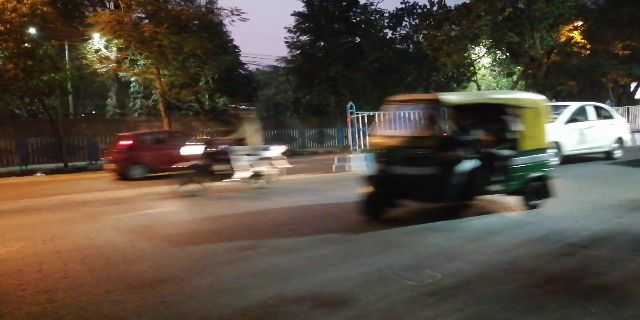Autorickshaw: (357, 89, 550, 221)
Car: (559, 96, 637, 159)
Motorbike: (176, 105, 293, 187)
